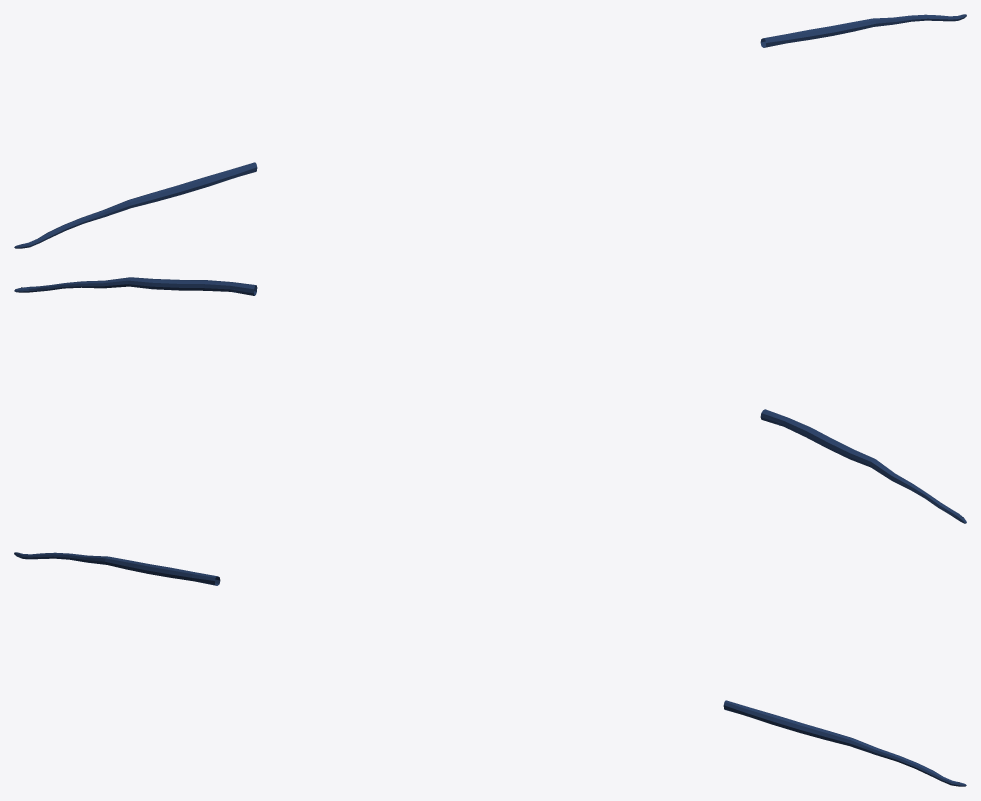
Rendered from Vena Basílica.FBX.
The picture shows the model from 3 angles, top to bottom: view 1: azimuth 30°, elevation 25°; view 2: azimuth 150°, elevation 25°; view 3: azimuth 330°, elevation 25°; orthographic projection.
Parts seen in each view (by area): view 1: CS_Veins; view 2: CS_Veins; view 3: CS_Veins.
Boxes of the visible parts, box(x1,y1,x2,y2) form: CS_Veins: box(14, 14, 966, 248); CS_Veins: box(14, 277, 966, 523); CS_Veins: box(14, 552, 966, 786).
Size of the model in its own units: 2849 by 132 by 113.
